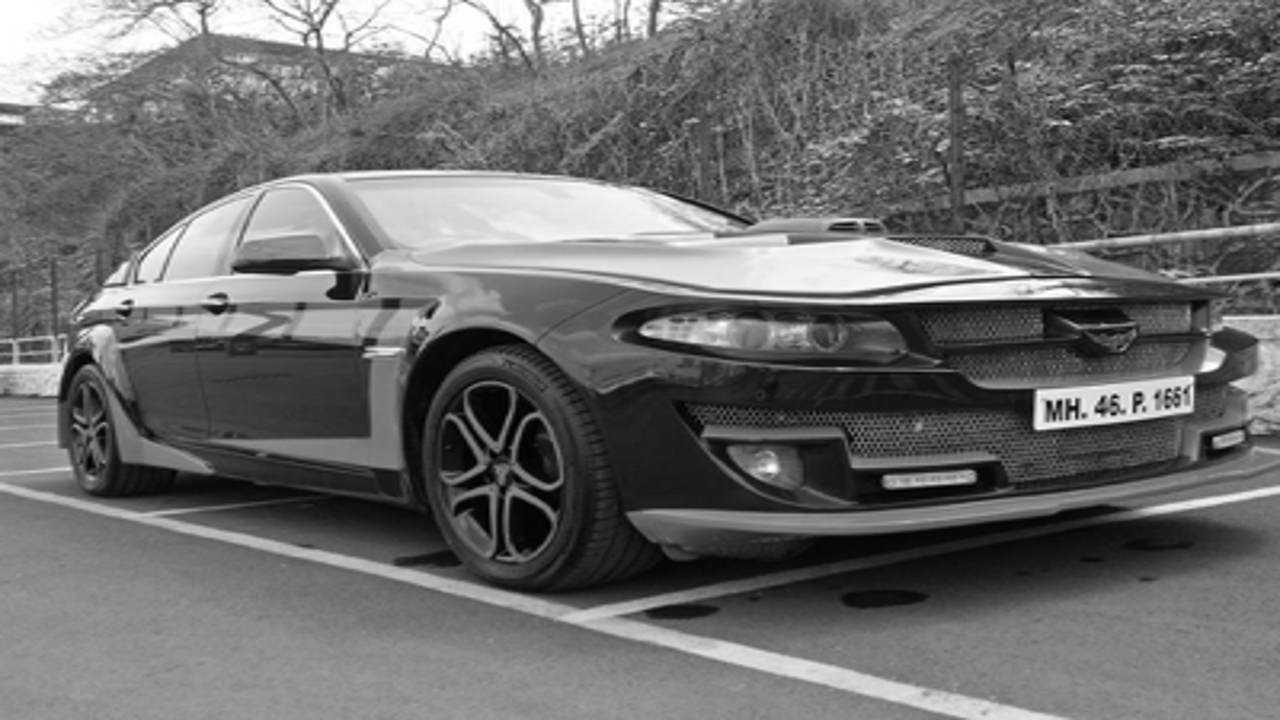license: (1028, 370, 1205, 435)
